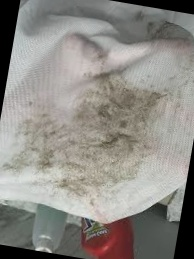earth: (61, 77, 164, 197)
